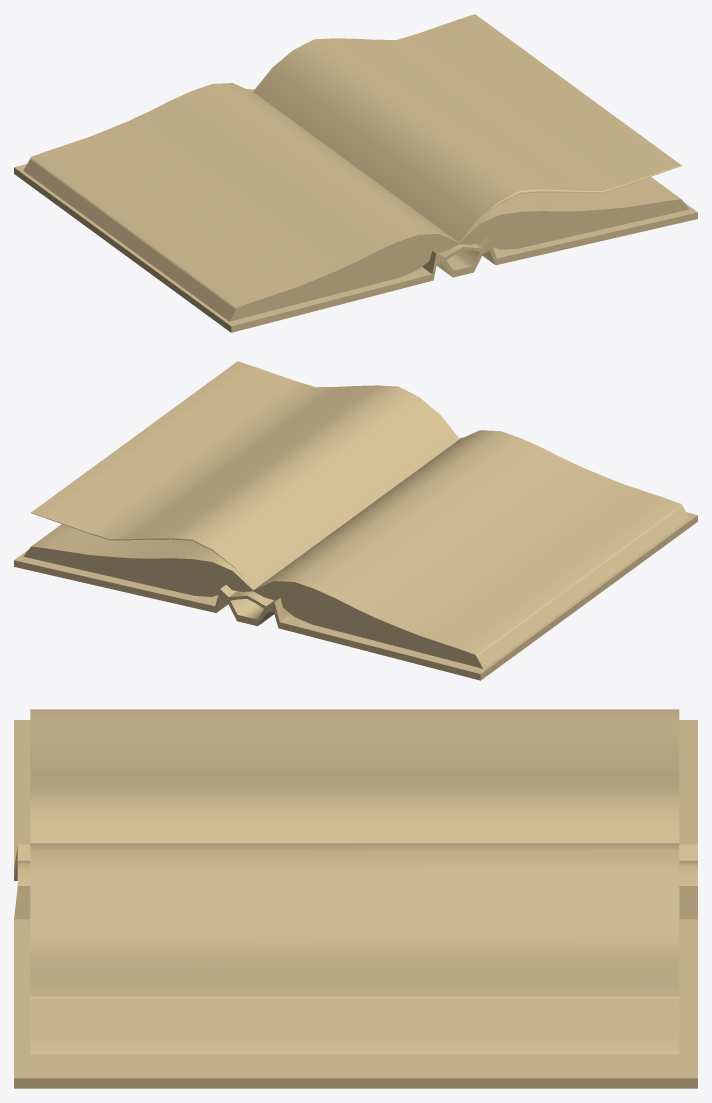
The model's file is book.glb.
3 views of the same model, one above another, from view 1: azimuth 30°, elevation 25°; view 2: azimuth 150°, elevation 25°; view 3: azimuth 270°, elevation 25° (orthographic). The views are drawn at different scales.
Bounding box in the file's own units: 21.15 × 2.99 × 17.05.
